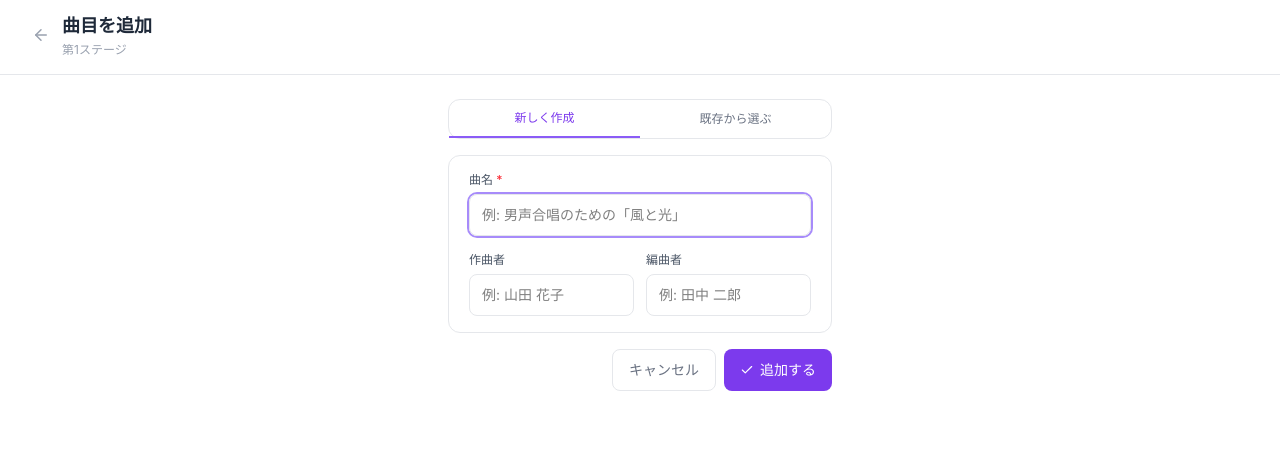
Scenario: NewProgramPage（新しく作成） › 曲名が空の場合はエラーを表示し追加しない
This screenshot has width=1280, height=463.
Expected: the text "第1ステージ" is shown, [62,42,127,57]
Step 1. Click the button "追加する" → (778, 370), box [724,349,832,391]
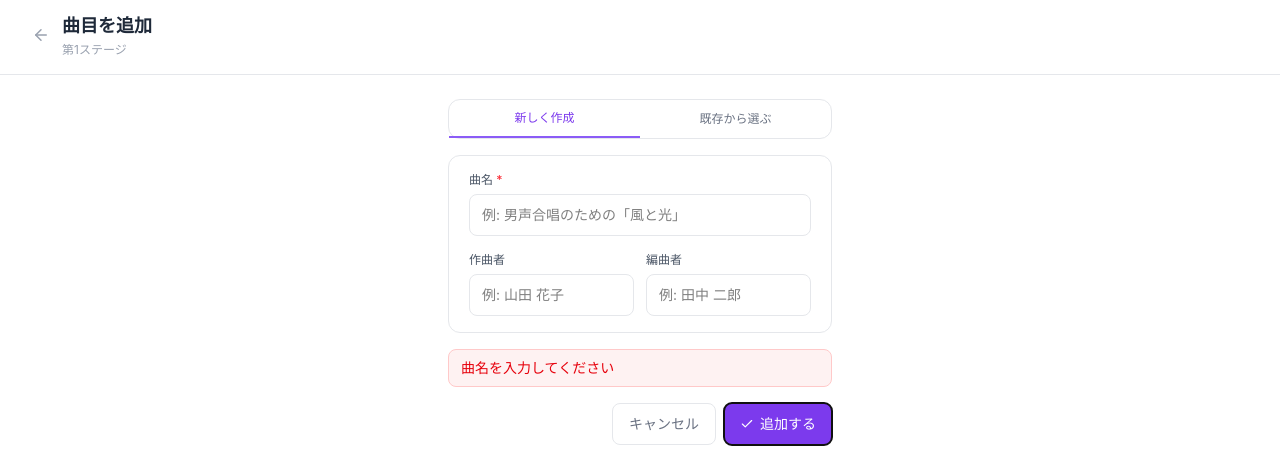
Now the message reads "曲名を入力してください", box [461,359,614,376]
